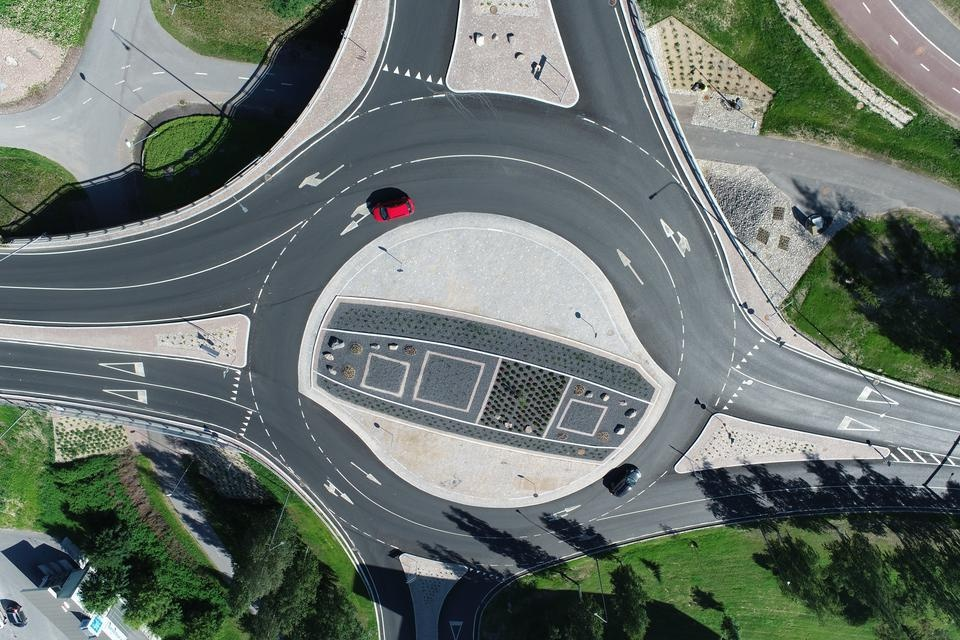roundabout: (179, 21, 803, 606)
